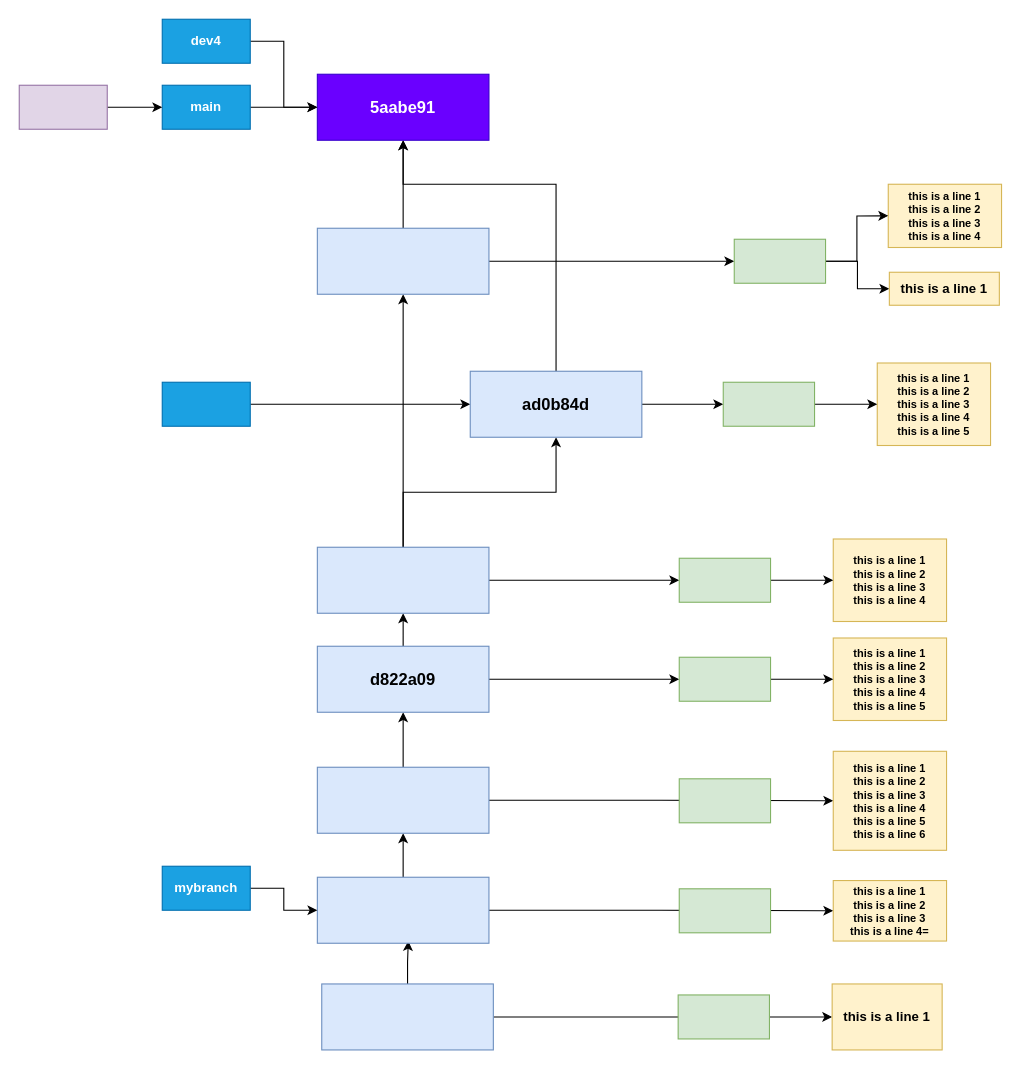
Image size: 1021x1069. Some labels were removed from this diagram. Here are the shapes that lost their labels. From the top down, the centre of each, then its label:
At pixel 62 106: "HEAD".
At pixel 402 260: "55990c9".
At pixel 205 403: "dev3".
At pixel 402 579: "a2f4b6a".
At pixel 402 799: "39a6d8f".
At pixel 402 909: "dcf0d16".
At pixel 407 1016: "1e01766".
